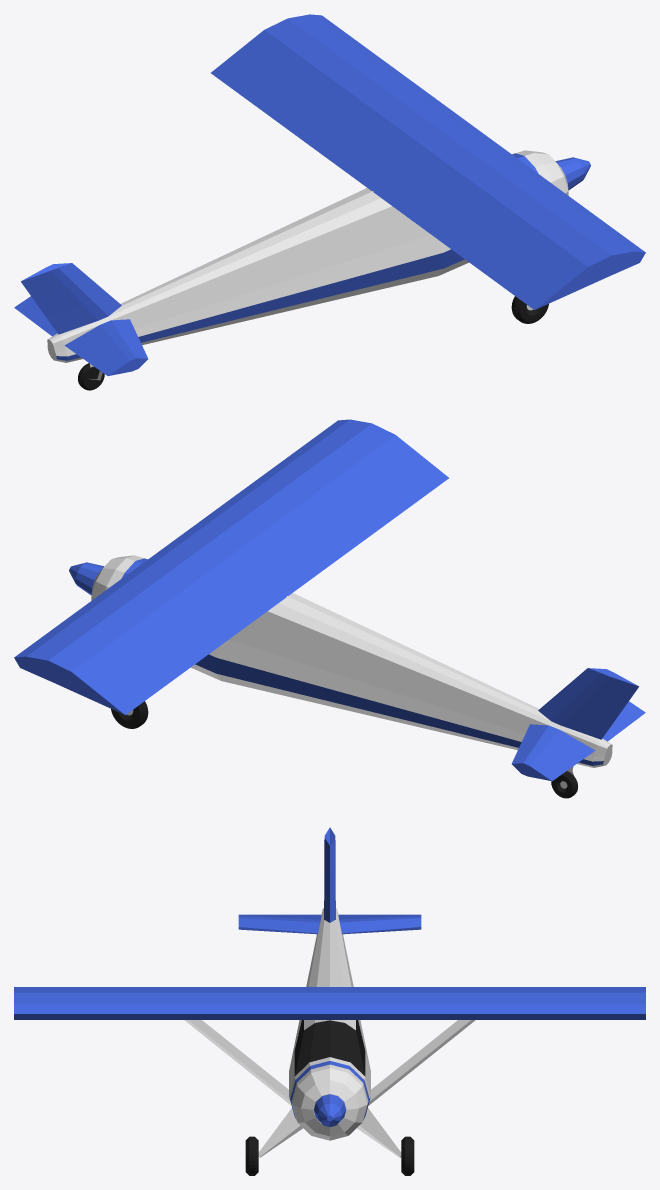
3 renders of one model, top to bottom at view 1: azimuth 30°, elevation 25°; view 2: azimuth 150°, elevation 25°; view 3: azimuth 270°, elevation 25°, orthographic. The views are drawn at different scales.
Parts seen in each view (by area): view 1: Wings, Body, VFin, LRFins, PropNose, Wheel; view 2: Wings, Body, VFin, LRFins, PropNose, Wheel; view 3: Wings, Body, LRFins, WingSupports, FrontAxels, VFin, Wheel, PropNose.
Boxes of the visible parts, box(x1,y1,x2,y2) form: Wings: box(211, 14, 645, 309); Body: box(47, 150, 568, 362); VFin: box(21, 263, 121, 334); LRFins: box(14, 296, 148, 375); PropNose: box(555, 157, 590, 190); Wheel: box(511, 296, 548, 323); Wings: box(14, 419, 448, 714); Body: box(91, 555, 612, 767); VFin: box(538, 668, 639, 739); LRFins: box(511, 701, 645, 780); PropNose: box(69, 562, 104, 595); Wheel: box(111, 701, 148, 728); Wings: box(14, 987, 645, 1019); Body: box(289, 908, 370, 1140); LRFins: box(238, 914, 421, 934); WingSupports: box(184, 1020, 475, 1105); FrontAxels: box(258, 1108, 401, 1157); VFin: box(324, 827, 335, 922); Wheel: box(245, 1136, 414, 1175); PropNose: box(313, 1094, 346, 1126).
Size of the model in its own units: 9.14 by 2.56 by 9.02.
